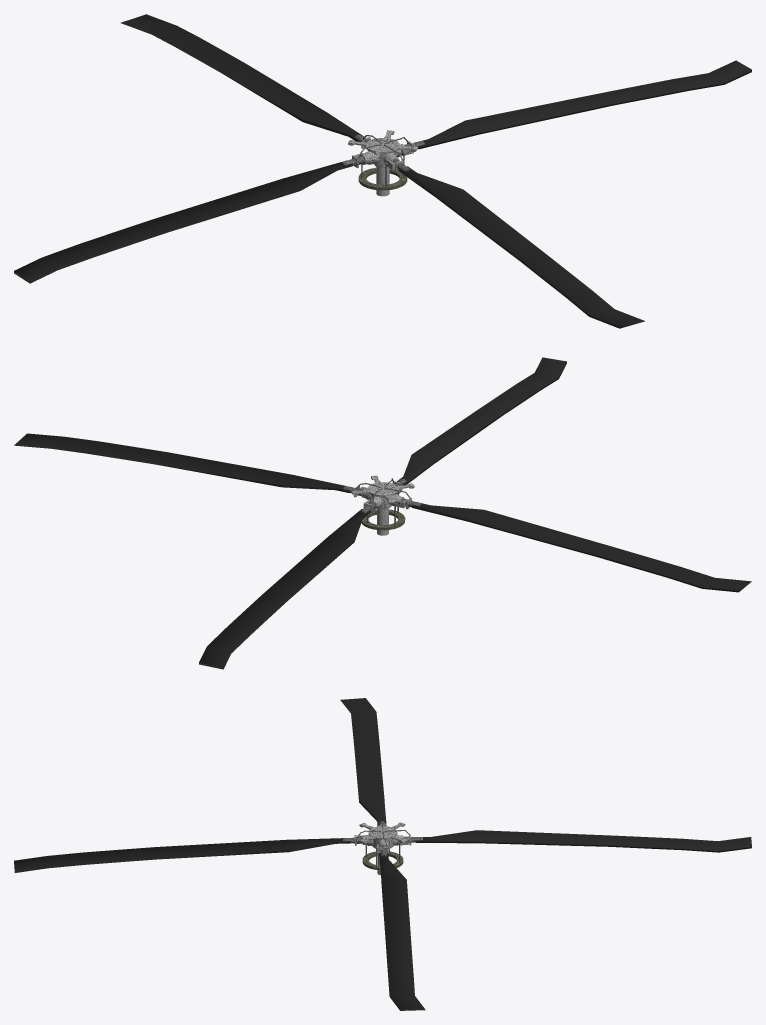
Rendered from Propeller2.fbx.
3 views of the same model, one above another, from view 1: azimuth 30°, elevation 25°; view 2: azimuth 150°, elevation 25°; view 3: azimuth 270°, elevation 25° (orthographic). The views are drawn at different scales.
Parts seen in each view (by area): view 1: Model; view 2: Model; view 3: Model.
Part boxes in pixels (box(x1,y1,x2,y2)): Model: box(14, 14, 751, 328); Model: box(14, 357, 751, 669); Model: box(14, 698, 751, 1010).
Bounding box in the file's own units: 930 × 59.51 × 930.
